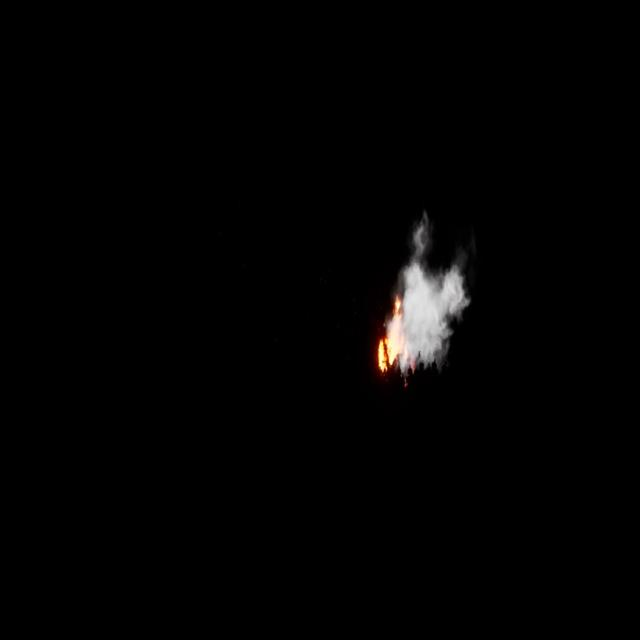fire: (378, 289, 412, 380)
smoke: (387, 210, 471, 373)
